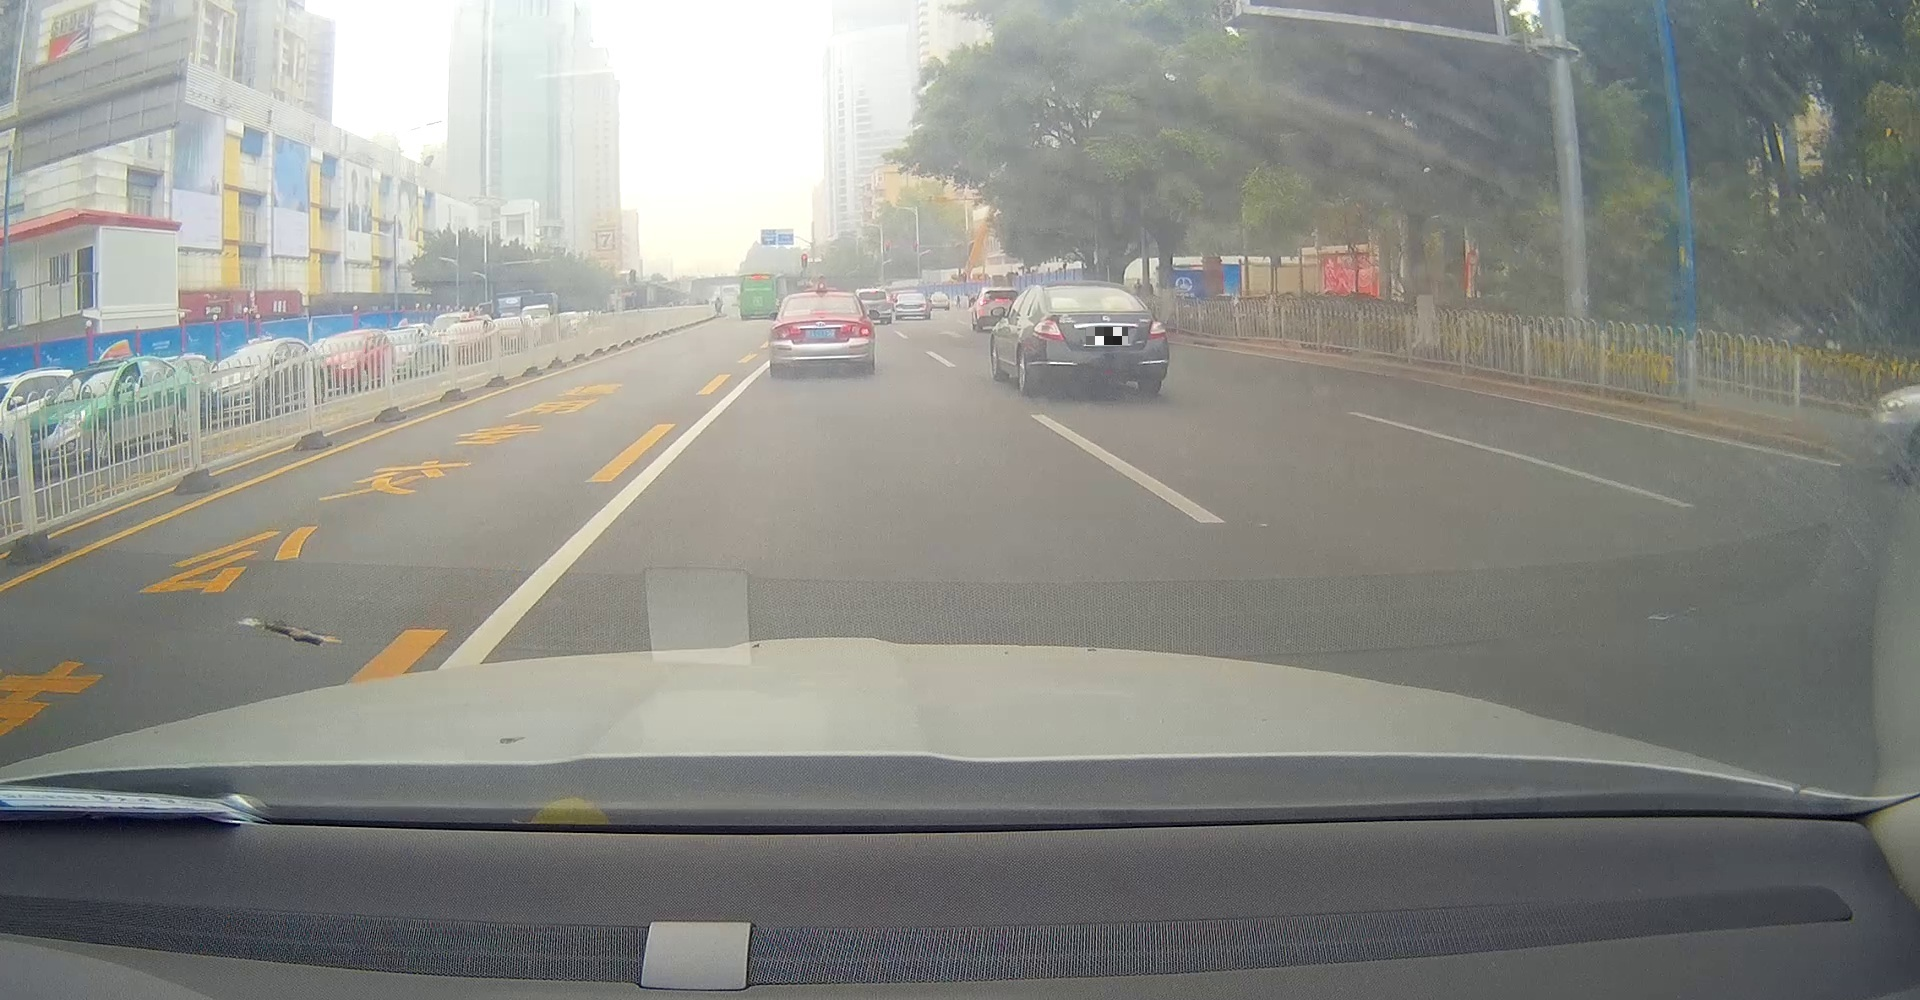L_light: (1032, 320, 1064, 341), (772, 326, 803, 339)
R_light: (842, 324, 872, 338), (1147, 320, 1166, 338)
T_light: (1081, 286, 1103, 291), (813, 310, 832, 313)
day-no: (1026, 279, 1170, 395)
night-right: (767, 291, 876, 379)
plate_1: (1086, 327, 1128, 345)
